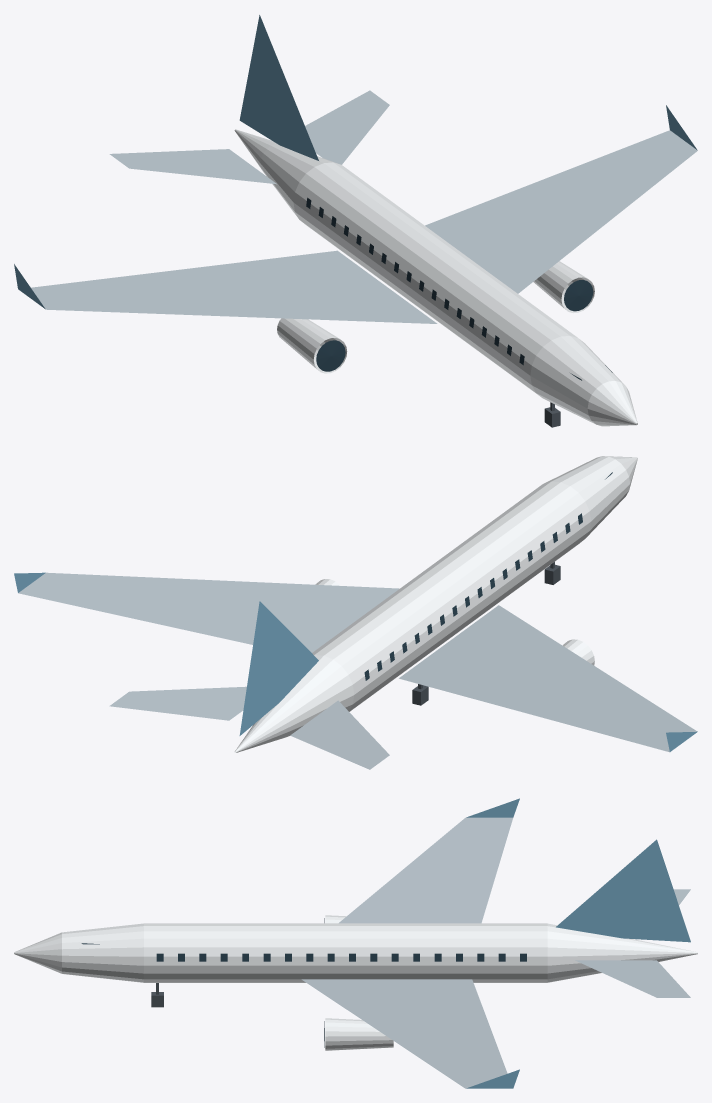
The model's file is a330-AAL.gltf.
3 renders of one model, top to bottom at view 1: azimuth 30°, elevation 25°; view 2: azimuth 150°, elevation 25°; view 3: azimuth 270°, elevation 25°, orthographic. The views are drawn at different scales.
Visible parts, largest first — view 1: object 1; view 2: object 1, Gear; view 3: object 1.
Boxes of the visible parts, left/top/right/bottom form: object 1: left=14, top=15, right=697, bottom=426; object 1: left=14, top=456, right=697, bottom=769; Gear: left=412, top=562, right=560, bottom=705; object 1: left=14, top=798, right=697, bottom=1088.
Bounding box in the file's own units: 60 × 17.16 × 64.
